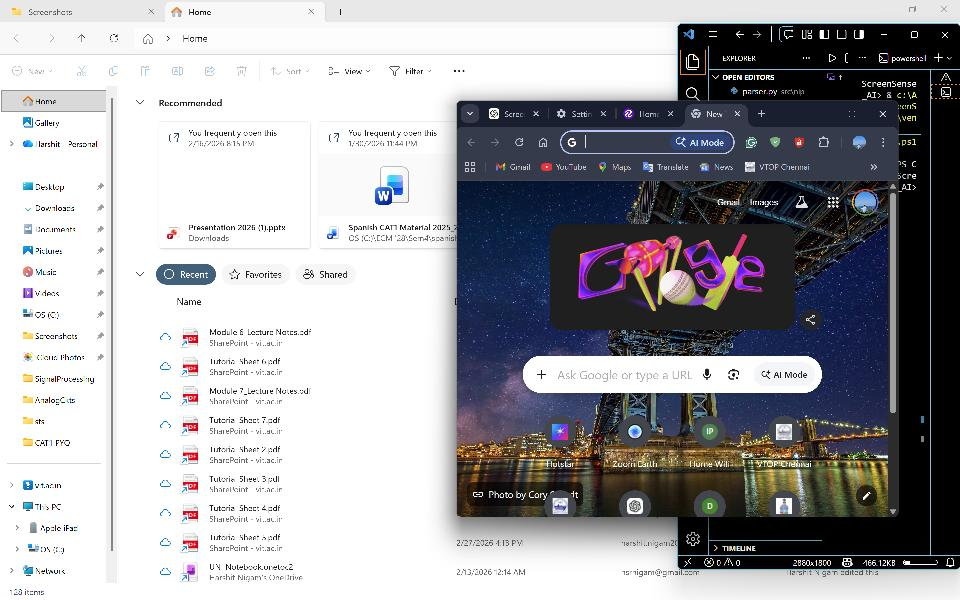close_button: (872, 104, 894, 125), (934, 2, 953, 18), (937, 27, 955, 42)
maximize_button: (842, 104, 865, 125), (903, 26, 926, 44), (905, 2, 925, 21)
minimize_button: (809, 102, 834, 125), (871, 1, 895, 21), (874, 26, 895, 45)
